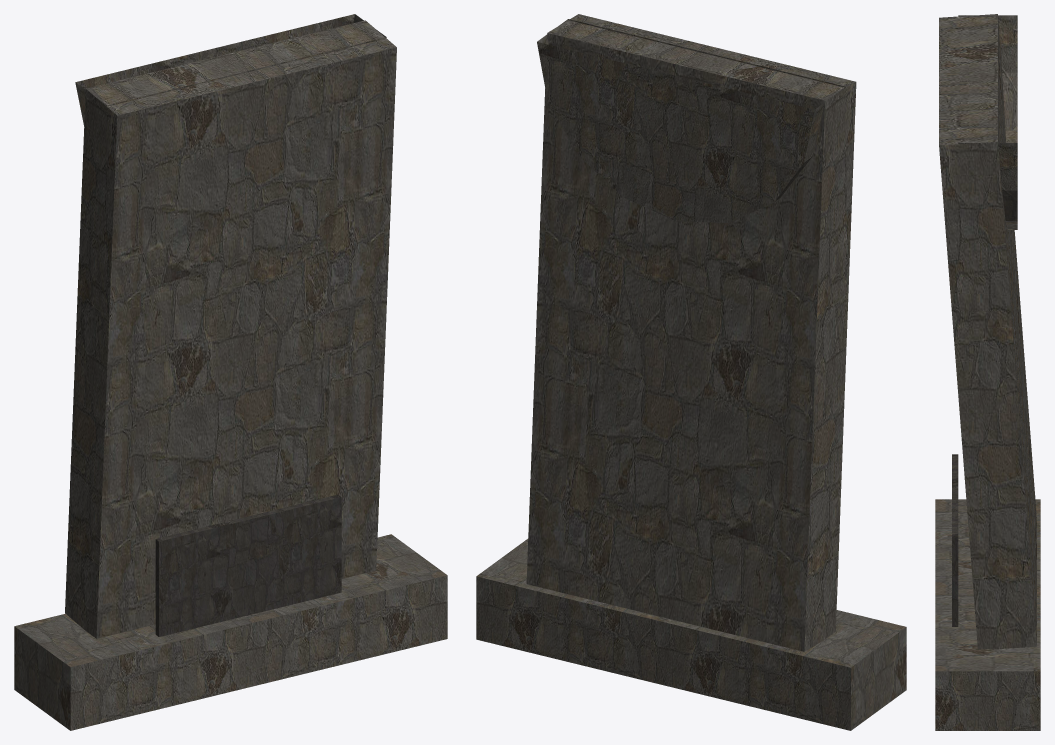
The model's file is prop_headstone_a.glb.
3 renders of one model, left to right at view 1: azimuth 30°, elevation 25°; view 2: azimuth 150°, elevation 25°; view 3: azimuth 270°, elevation 25°, orthographic. The views are drawn at different scales.
Visible parts, largest first — view 1: prop_headstone_a; view 2: prop_headstone_a; view 3: prop_headstone_a.
Part boxes in pixels (bbox=[...]): prop_headstone_a: bbox=[14, 14, 447, 730]; prop_headstone_a: bbox=[476, 14, 906, 730]; prop_headstone_a: bbox=[935, 14, 1040, 730].
Size of the model in its own units: 0.62 by 0.9521 by 0.16.
Materials: 2 (2 with a texture image).
